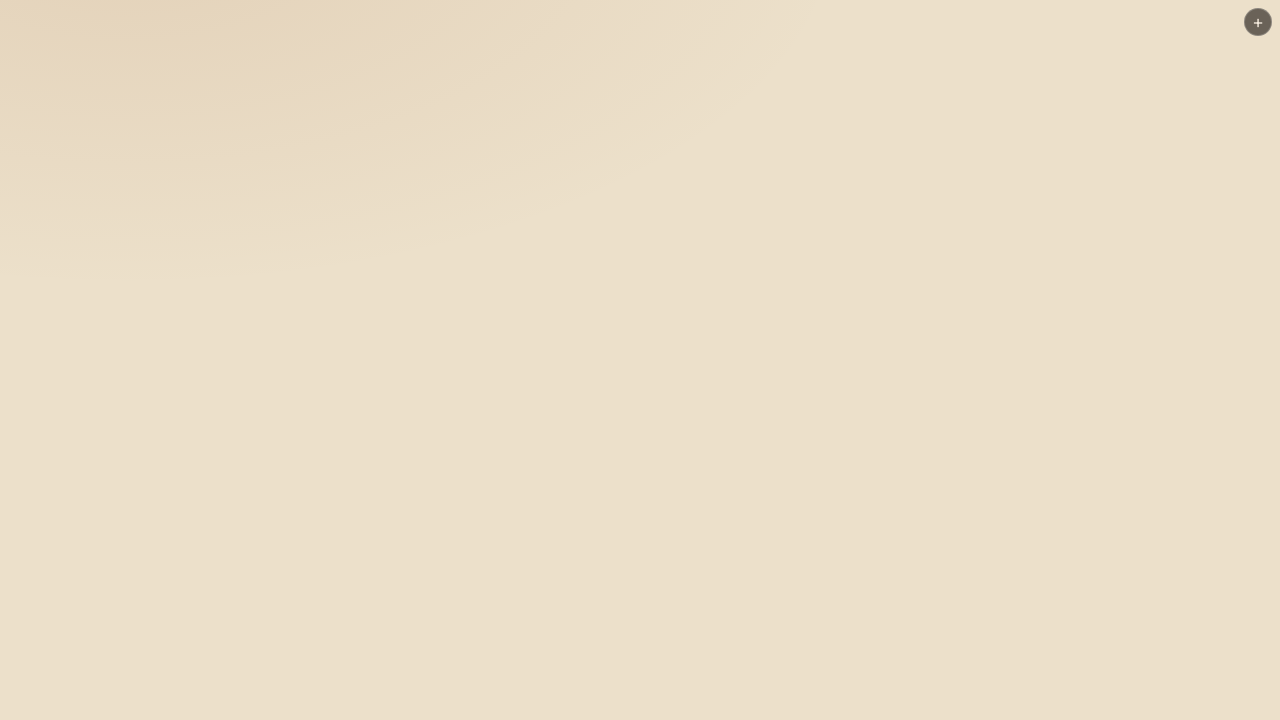
Test case: quick add › adds with the chosen status and shows a toast
The image size is (1280, 720).
Click the button named "Quick add Frieren": (1258,22) [1244, 8, 1272, 36]
(page scrolled)
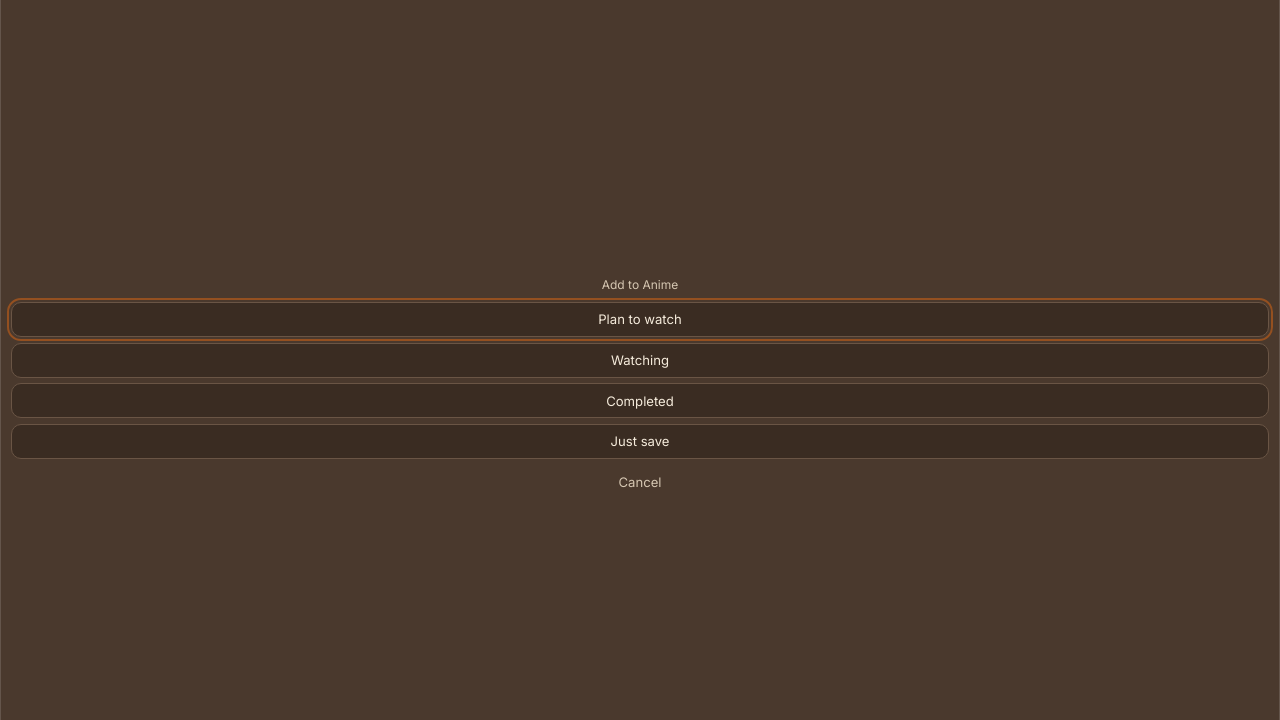
Click the button "Watching": (640,360) [11, 343, 1269, 378]
(page scrolled)
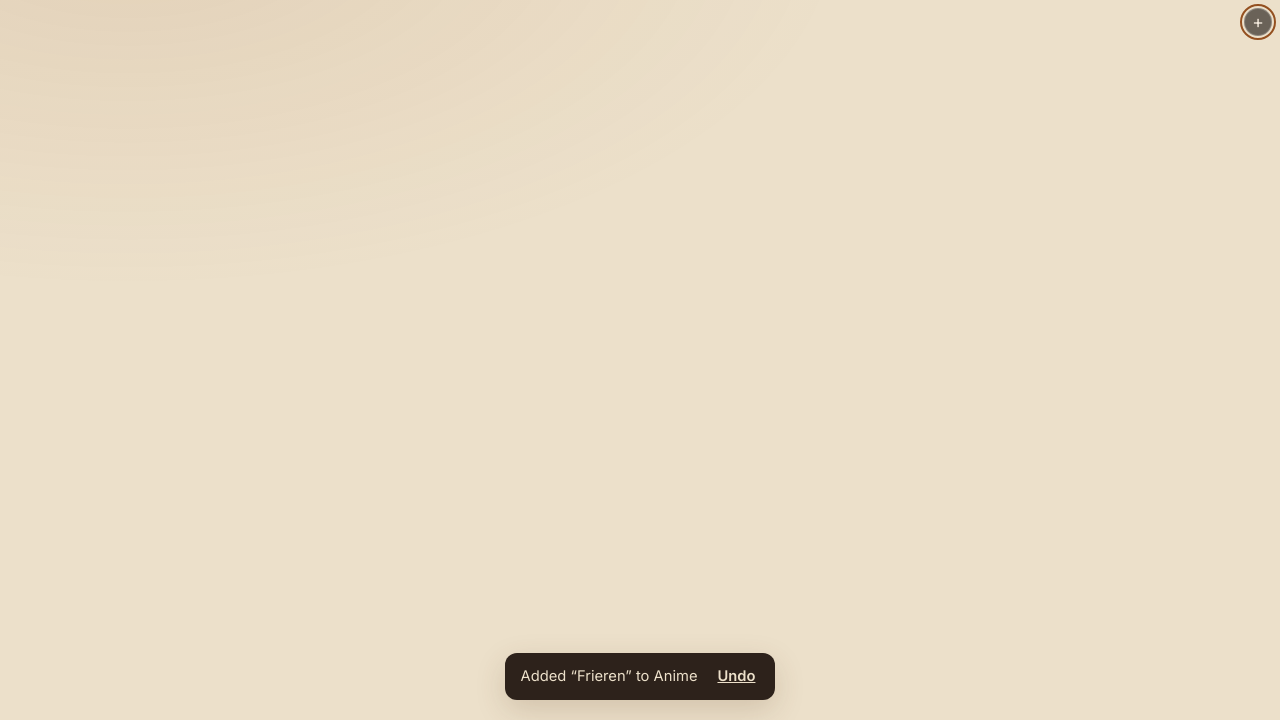
Expected: the text "Added “Frieren” to Anime" is shown, [520, 665, 697, 688]
